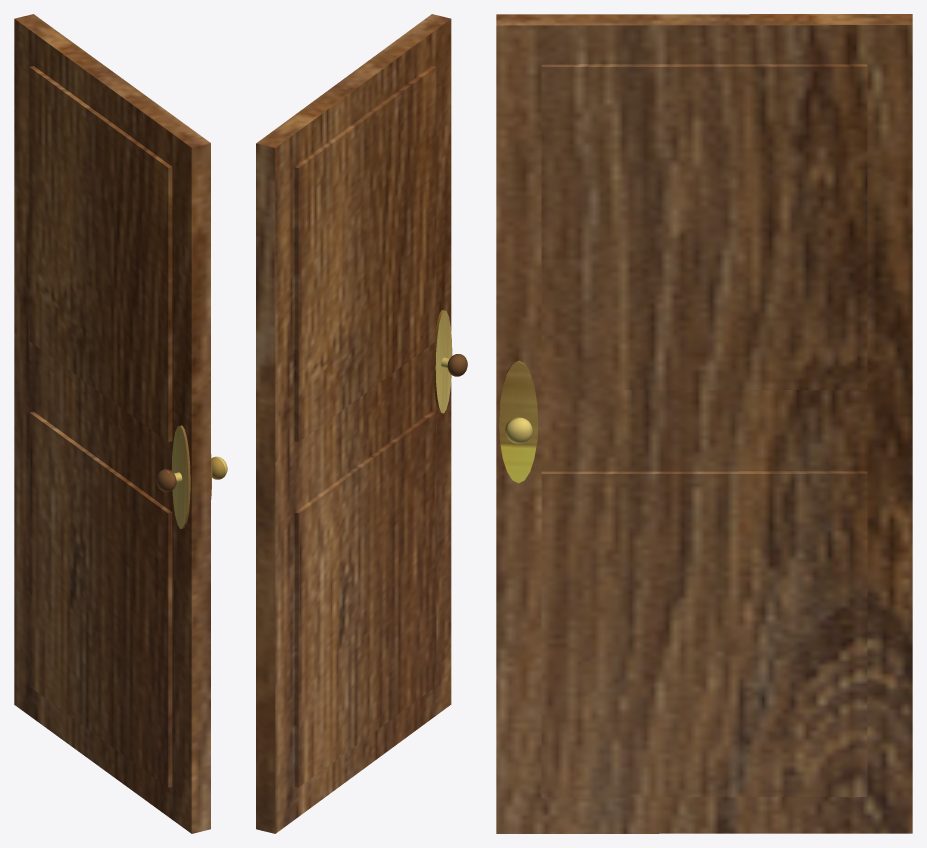
Rendered from Door.fbx.
3 renders of one model, left to right at view 1: azimuth 30°, elevation 25°; view 2: azimuth 150°, elevation 25°; view 3: azimuth 270°, elevation 25°, orthographic. The views are drawn at different scales.
Parts seen in each view (by area): view 1: Door; view 2: Door; view 3: Door.
Boxes of the visible parts, x1,y1,x2,y2 form: Door: (14, 14, 227, 833); Door: (256, 14, 467, 833); Door: (496, 14, 912, 833).
Size of the model in its own units: 38.41 by 371 by 173.
2 materials, 2 textured.
